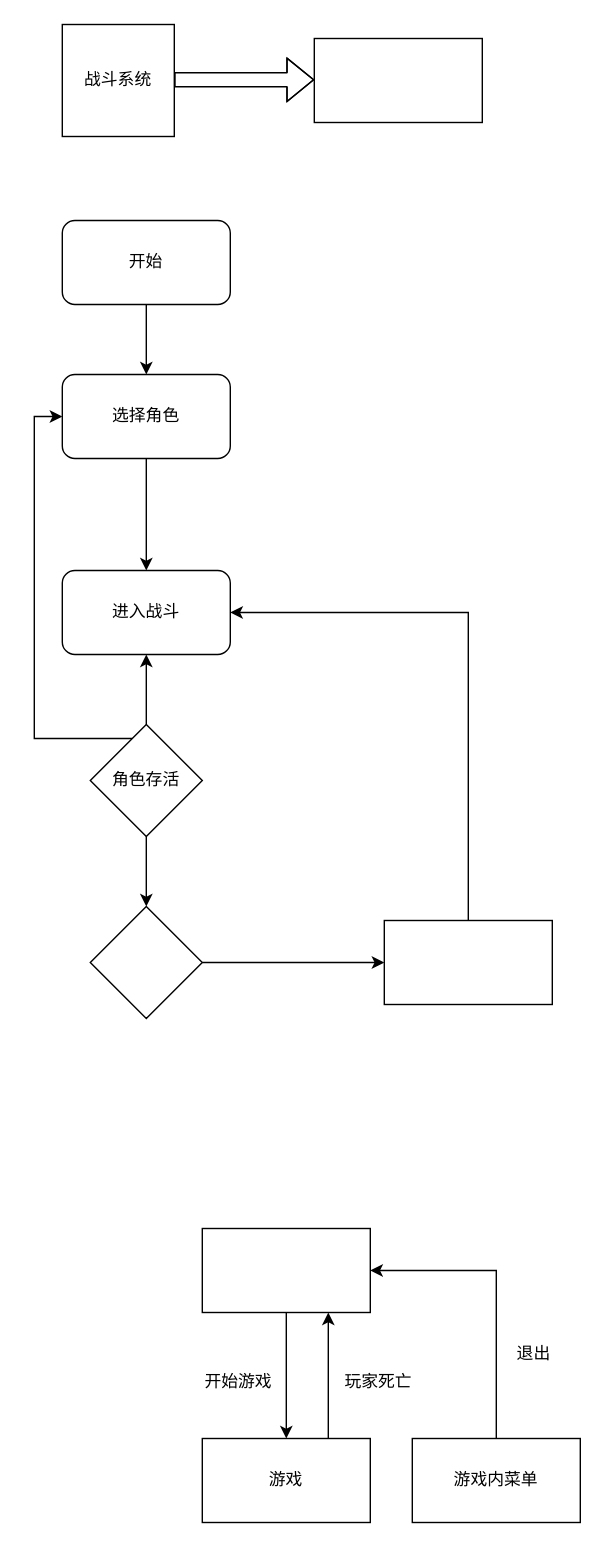
This 605x1547 diagram has some shape labels left out. Here are the shapes that lost their labels. From the top down, the box of each, then its label:
(313, 37, 482, 122): 成长系统
(89, 905, 202, 1018): 时间结束
(383, 919, 552, 1004): 进入商店
(201, 1227, 370, 1312): 主菜单
